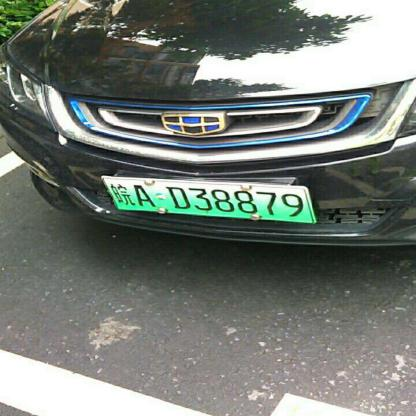lp: (104, 177, 312, 221)
